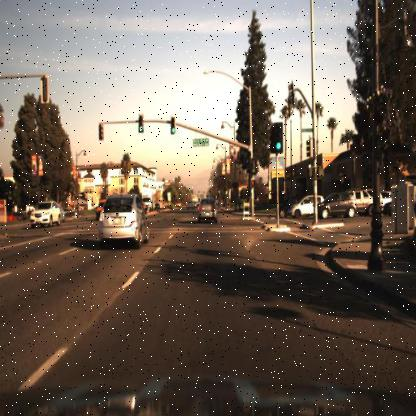car: (97, 193, 151, 251), (314, 188, 357, 221), (350, 184, 384, 218), (30, 198, 61, 228), (286, 195, 322, 219), (195, 191, 220, 224), (92, 194, 108, 224), (279, 197, 297, 219), (57, 204, 69, 225), (184, 197, 196, 213)
trafficLight: (97, 121, 105, 141)
trafficLight-Green: (272, 124, 284, 155), (137, 114, 145, 135), (137, 115, 145, 135), (250, 157, 258, 174), (170, 115, 175, 138)
